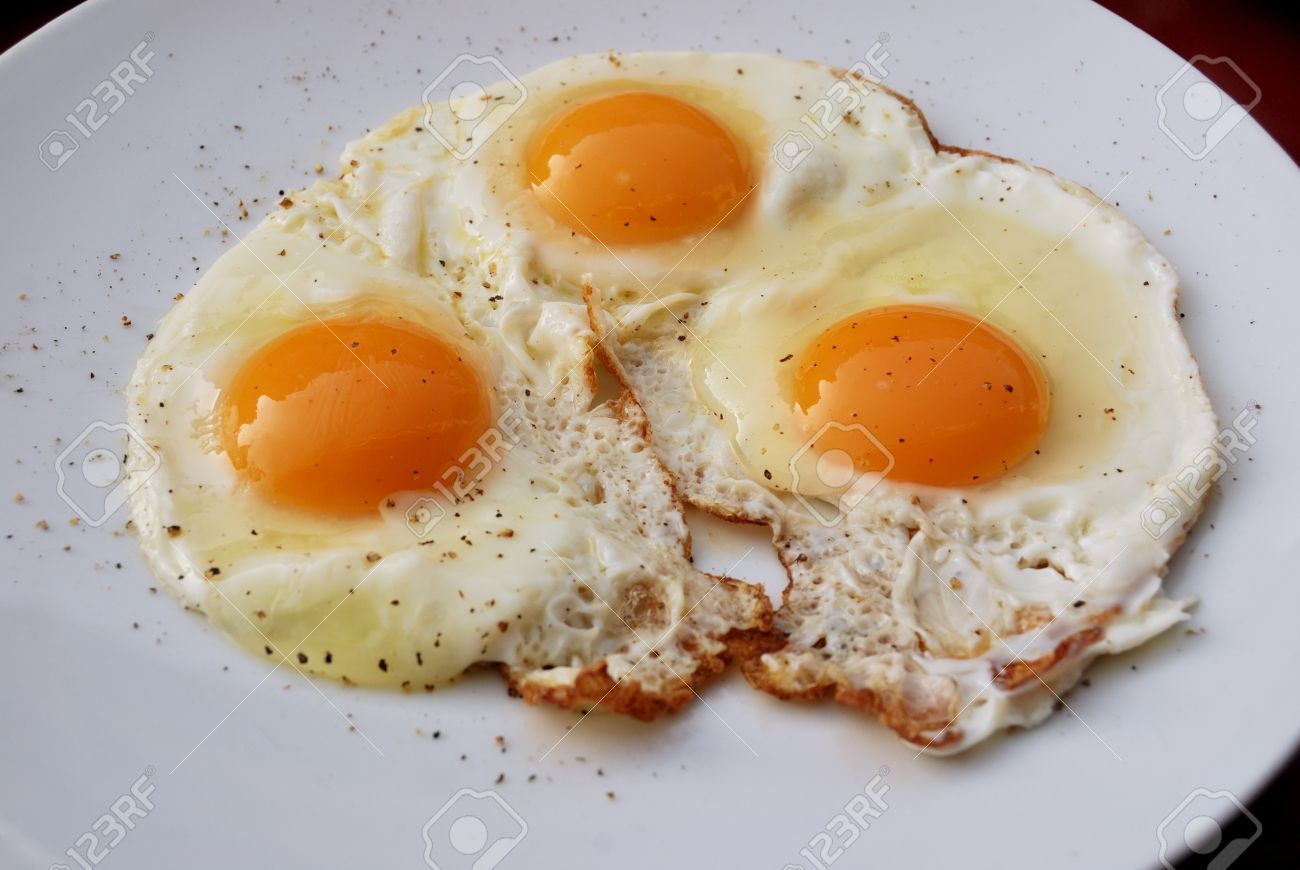fried_eggs: (205, 265, 697, 659), (738, 203, 1178, 561), (404, 76, 897, 334)
